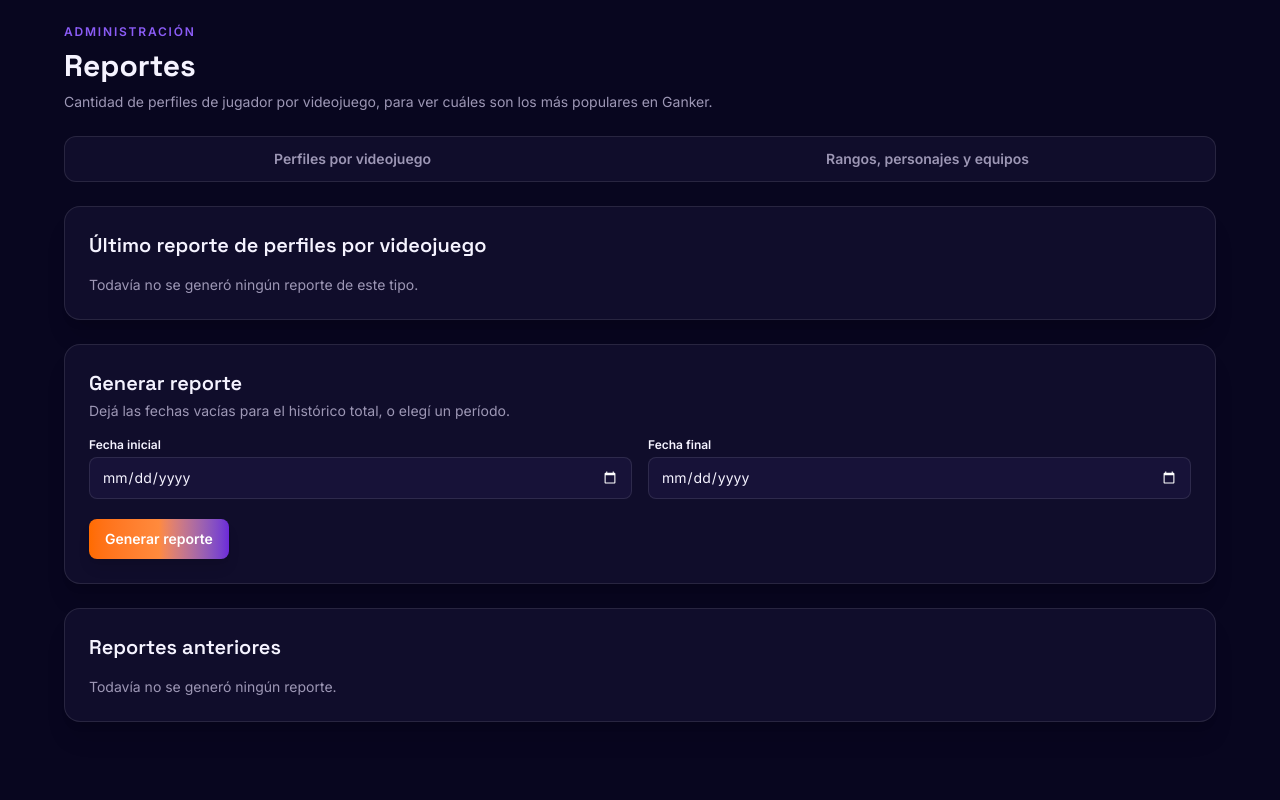
Test: ReportesPage - US 37 Reporte de jugadores por videojuego › muestra el error del backend si el período choca con el reporte previo
Click the button "Generar reporte".
click(159, 539)  # box [89,519,229,559]
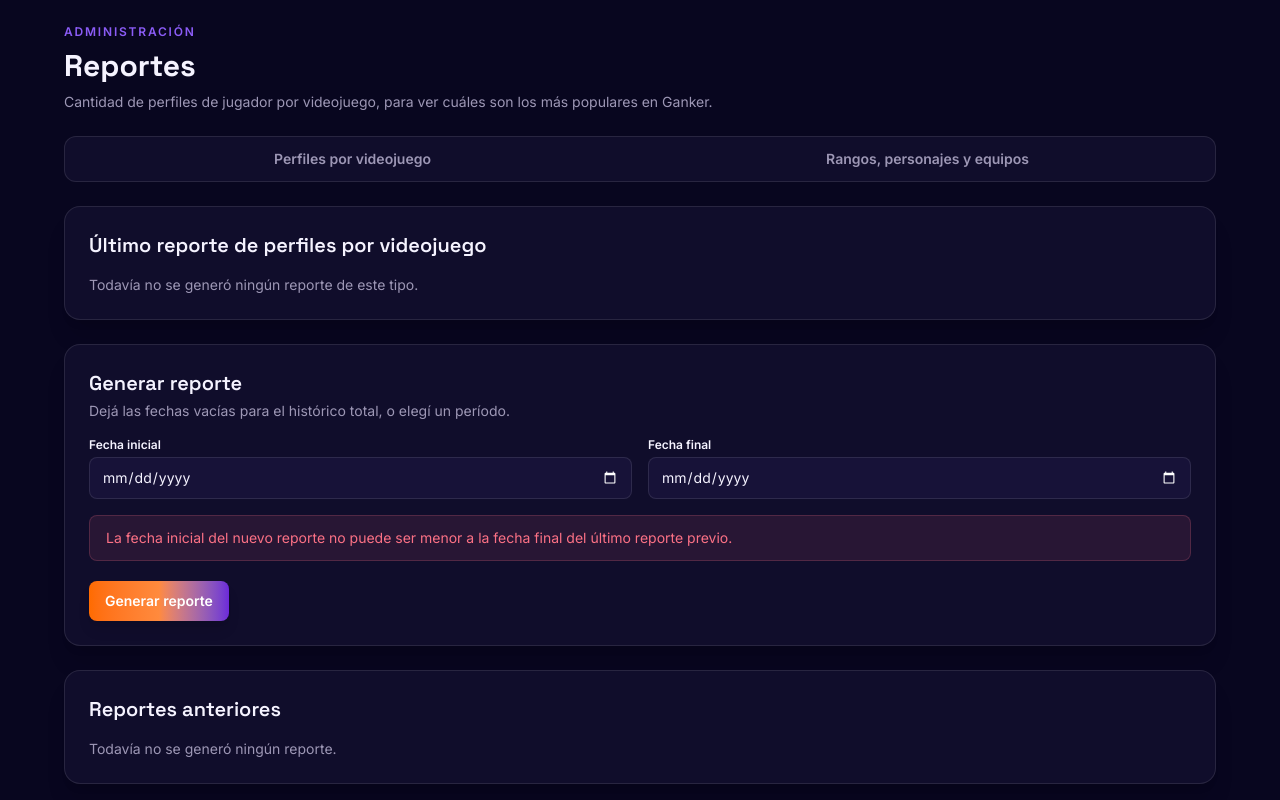
Now the text "no puede ser menor a la fecha final del último reporte" is shown, box [106,529,732,546]
